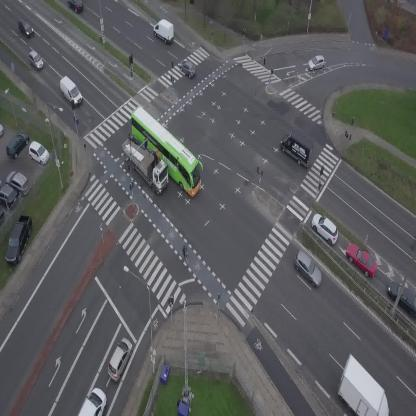bicycle: (178, 244, 191, 264)
bus: (118, 103, 214, 198)
car: (341, 238, 383, 282), (288, 248, 329, 289), (103, 336, 137, 384), (306, 209, 344, 247), (79, 385, 114, 416), (24, 49, 46, 73), (177, 57, 200, 79), (15, 18, 36, 39), (306, 54, 327, 72), (67, 0, 84, 13)
lorry: (321, 353, 401, 416), (112, 130, 178, 196), (274, 127, 320, 170), (55, 74, 86, 106), (149, 16, 180, 46)
